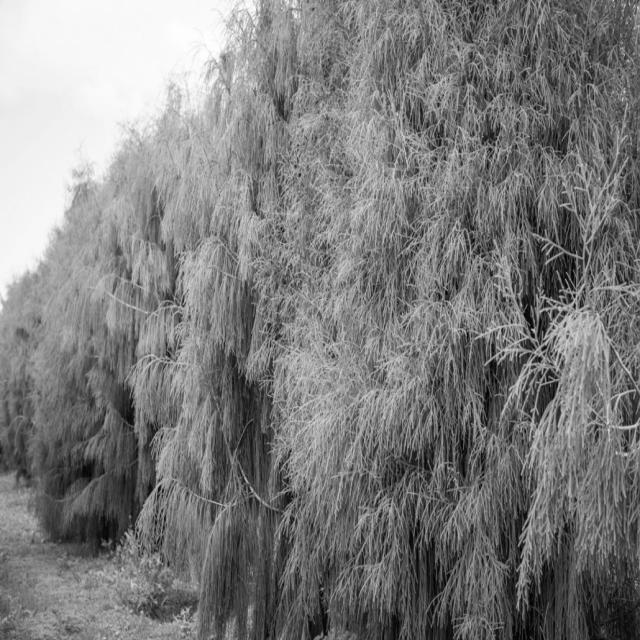Rimu: (304, 9, 640, 640), (179, 7, 305, 639), (76, 138, 202, 576), (4, 274, 42, 468)
